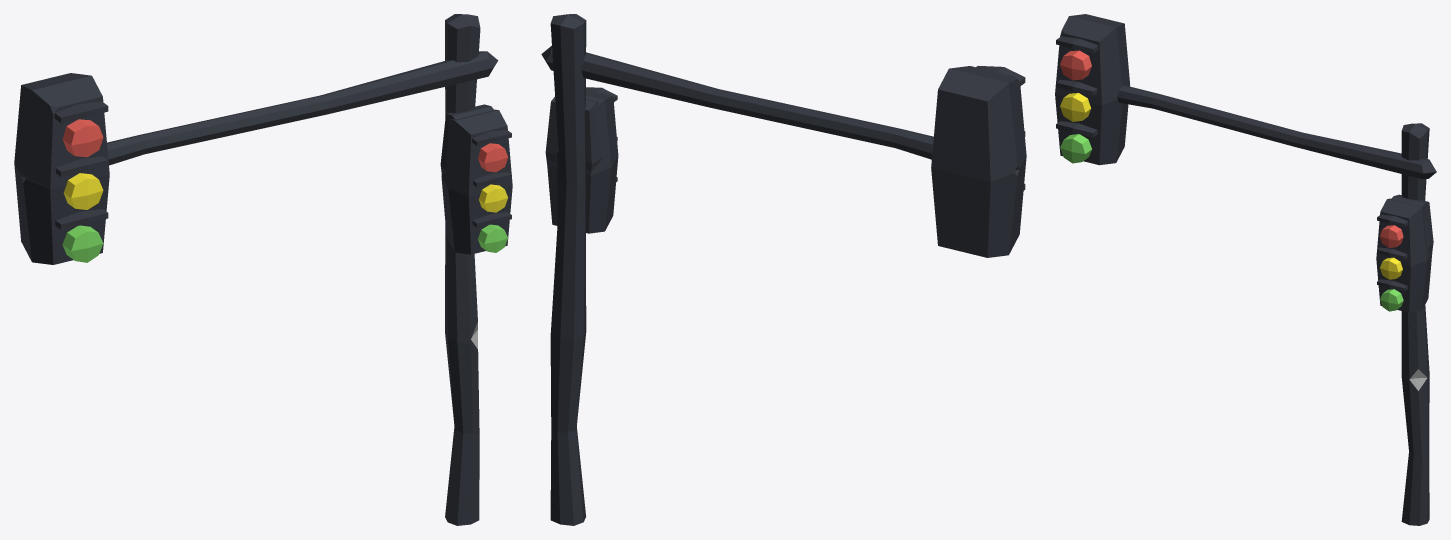
File: Cenarios.fbx_Sinais.fbx
3 views of the same model, side by side, from view 1: azimuth 30°, elevation 25°; view 2: azimuth 150°, elevation 25°; view 3: azimuth 330°, elevation 25° (orthographic). The views are drawn at different scales.
Parts seen in each view (by area): view 1: Sinal L, Sinal Triplo, Sinal Duplo; view 2: Sinal L, Sinal Triplo, Sinal Duplo; view 3: Sinal L, Sinal Triplo, Sinal Duplo.
Part boxes in pixels (x1,y1,x2,y2): Sinal L: (14,14,498,525); Sinal Triplo: (441,109,512,254); Sinal Duplo: (440,104,493,173); Sinal L: (541,14,1026,525); Sinal Triplo: (547,87,618,233); Sinal Duplo: (545,97,602,219); Sinal L: (1055,14,1436,525); Sinal Triplo: (1376,198,1431,312); Sinal Duplo: (1391,194,1433,253).
Size of the model in its own units: 370 by 400 by 64.21.
